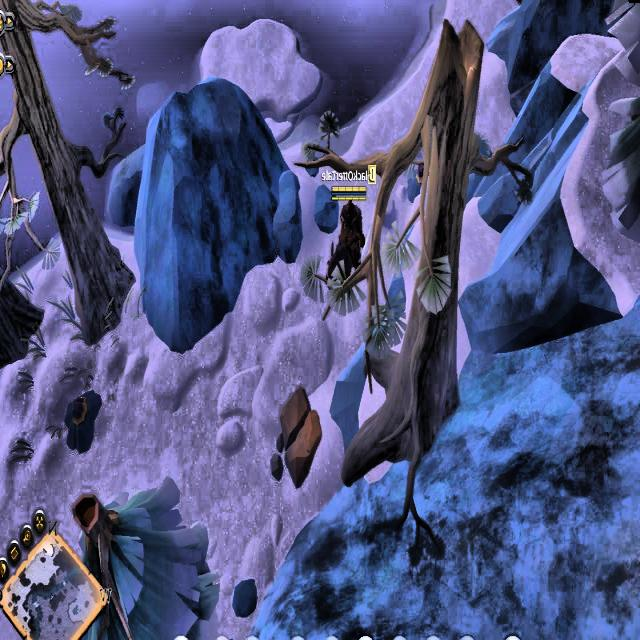copperore: (66, 382, 100, 458), (403, 159, 431, 206)
limestone: (278, 377, 322, 487)
